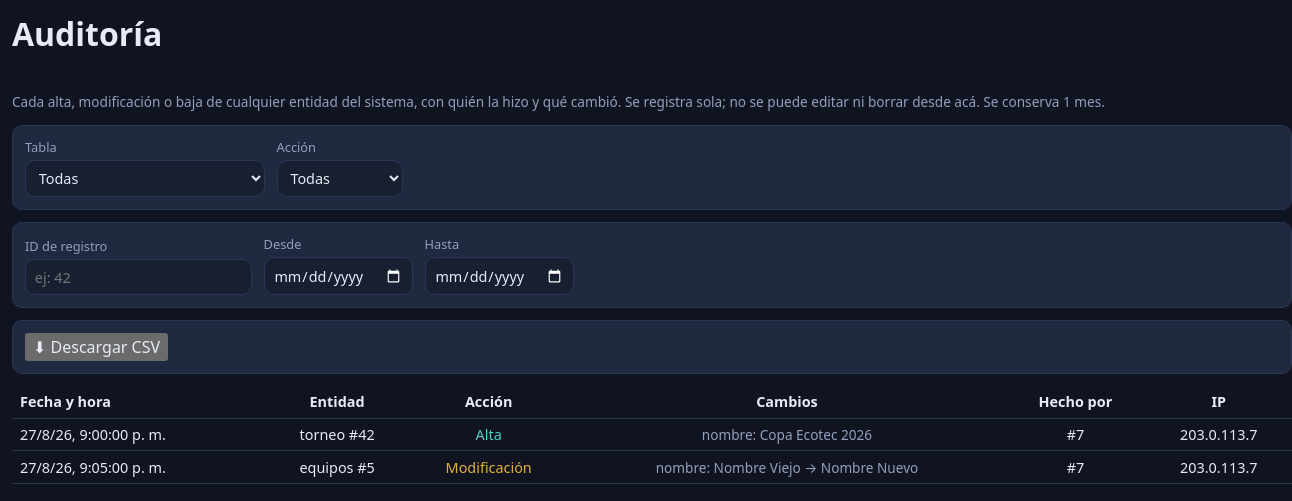
Scenario: AuditoriaAdminPage › filtra por tabla (autocomplete de nombres reales) contra el servidor
Expected: the text "torneo #42" is shown, [266,418,409,451]
Select "equipos" in the dropdown labelled "Tabla" at (145, 179), box [25,160,265,197]
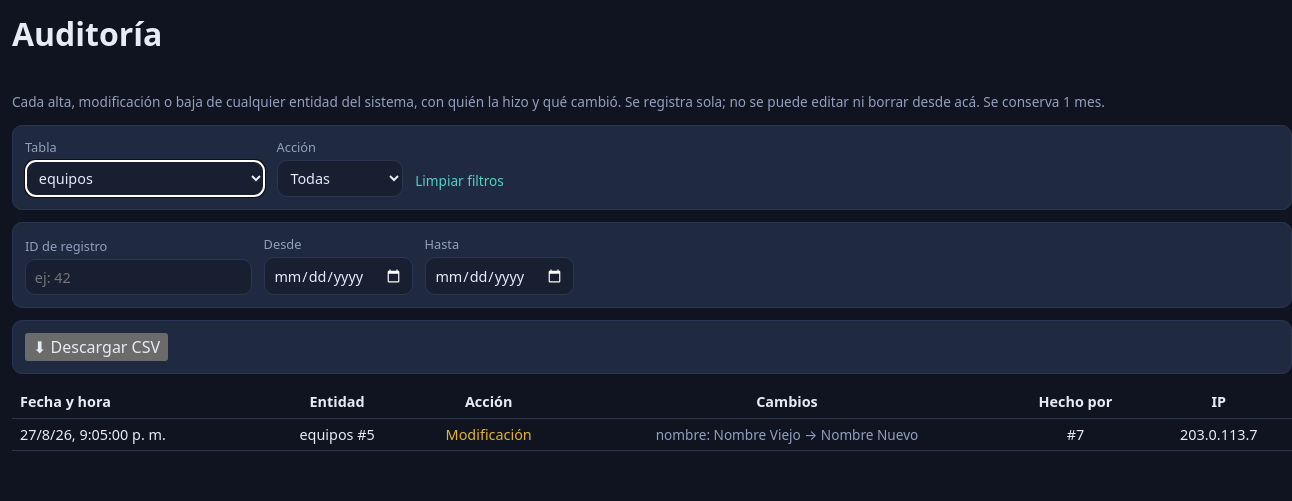
Expected: the text "equipos #5" is shown, [266,418,409,451]
Result: the text "torneo #42" is gone
